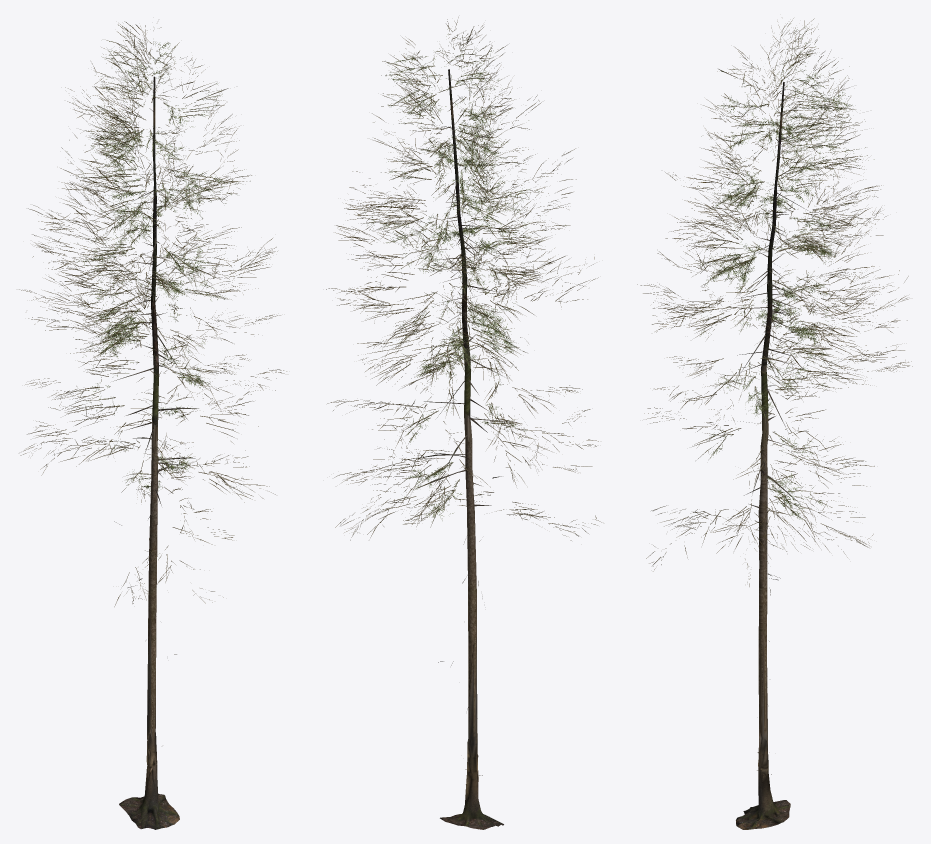
File: fir-near.glb
The picture shows the model from 3 angles, left to right: view 1: azimuth 30°, elevation 25°; view 2: azimuth 150°, elevation 25°; view 3: azimuth 270°, elevation 25°; orthographic projection. The views are drawn at different scales.
Visible parts, largest first — view 1: Scots fir; view 2: Scots fir; view 3: Scots fir.
Boxes of the visible parts, x1=… form: Scots fir: x1=19, y1=21, x2=286, y2=829; Scots fir: x1=326, y1=17, x2=601, y2=829; Scots fir: x1=637, y1=18, x2=912, y2=829.
Size of the model in its own units: 6.4 by 18.82 by 5.99.
Materials: 4 (4 with a texture image).
